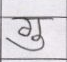u_matra: (7, 36, 48, 51)
